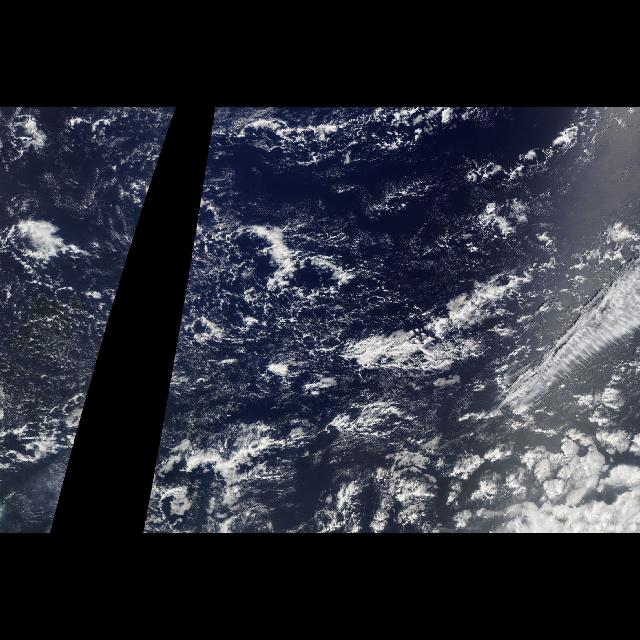Fish: (259, 244, 639, 422)
Flower: (440, 403, 640, 533)
Gravel: (157, 110, 525, 450), (0, 245, 132, 450), (142, 111, 176, 217)
Sugar: (338, 168, 468, 230)
